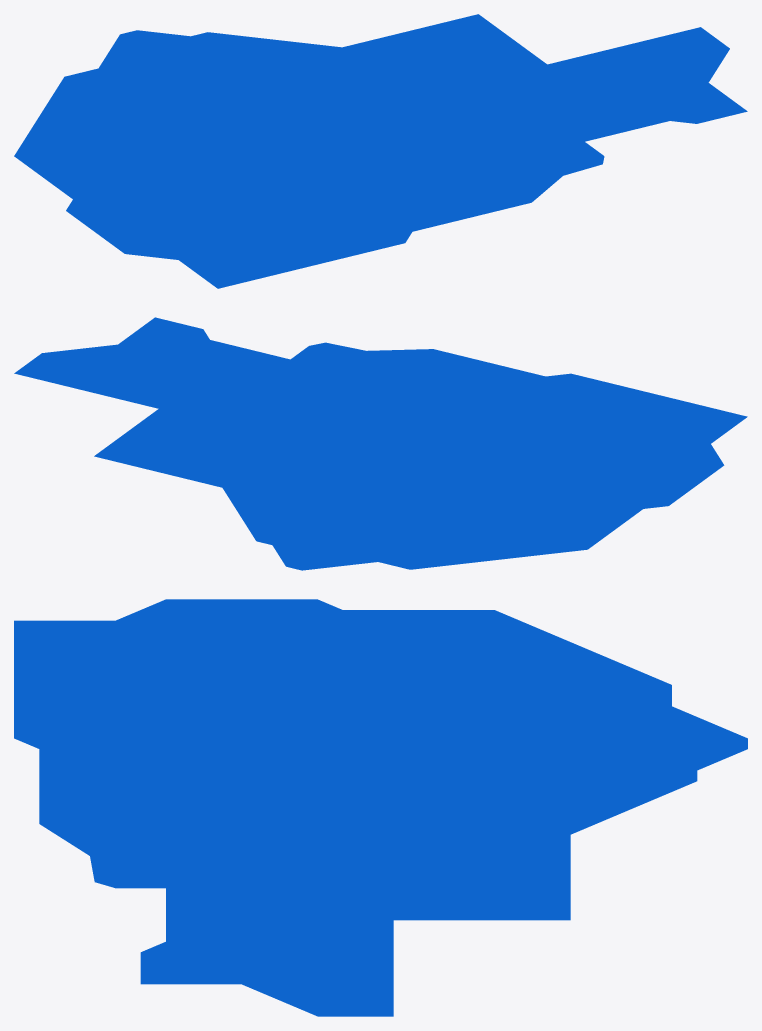
File: SM_MainLevel_Ground_1.fbx
3 renders of one model, top to bottom at view 1: azimuth 30°, elevation 25°; view 2: azimuth 150°, elevation 25°; view 3: azimuth 270°, elevation 25°, orthographic. The views are drawn at different scales.
Visible parts, largest first — view 1: SM_MainLevel_Ground_1; view 2: SM_MainLevel_Ground_1; view 3: SM_MainLevel_Ground_1.
Part boxes in pixels (<box>): SM_MainLevel_Ground_1: <box>14,14,747,288</box>; SM_MainLevel_Ground_1: <box>14,317,747,570</box>; SM_MainLevel_Ground_1: <box>14,599,747,1016</box>.
Bounding box in the file's own units: 39 × 7.79e-07 × 29.
